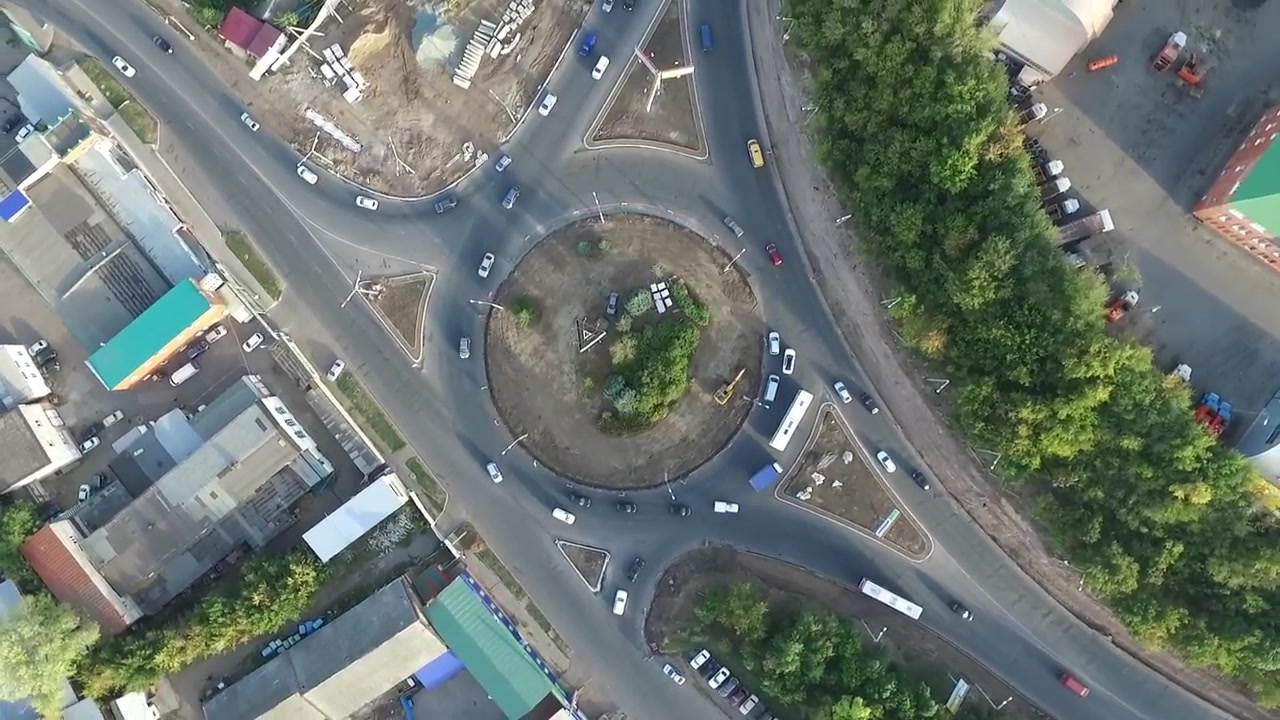car: (766, 387, 816, 454), (856, 577, 925, 622), (1103, 288, 1141, 324), (747, 461, 784, 494), (1193, 391, 1220, 431), (1206, 399, 1233, 438), (1057, 672, 1092, 699), (168, 360, 201, 388), (110, 54, 137, 79), (948, 600, 976, 624), (577, 28, 598, 59), (660, 663, 687, 687), (589, 54, 612, 82), (745, 137, 765, 169), (625, 556, 647, 585), (706, 665, 731, 690), (536, 90, 558, 118), (721, 215, 745, 239), (737, 691, 759, 717), (875, 449, 897, 475), (833, 379, 854, 406), (475, 251, 495, 279), (688, 646, 711, 670), (610, 588, 629, 617), (203, 323, 228, 345), (550, 506, 577, 526), (295, 164, 319, 186), (500, 185, 521, 210), (695, 657, 720, 678), (859, 391, 880, 416), (325, 358, 345, 384), (185, 340, 211, 360), (239, 110, 261, 133), (718, 676, 740, 699), (1, 111, 22, 135), (484, 460, 504, 485), (101, 409, 126, 429), (764, 242, 784, 267), (433, 196, 459, 215), (764, 373, 781, 402), (698, 24, 715, 53), (1171, 361, 1193, 383), (151, 34, 174, 55), (241, 332, 264, 353), (781, 346, 797, 376), (911, 470, 932, 492), (712, 499, 740, 515), (354, 194, 380, 211), (729, 686, 749, 708), (78, 435, 101, 454), (34, 347, 57, 366), (38, 360, 62, 378), (14, 123, 35, 143), (667, 502, 693, 518), (27, 339, 49, 357), (569, 492, 592, 509), (80, 423, 104, 439), (494, 154, 513, 174), (605, 290, 620, 315), (767, 330, 781, 356), (458, 334, 471, 360), (76, 483, 90, 505), (91, 472, 104, 495), (616, 502, 638, 515), (600, 1, 617, 15), (622, 1, 636, 12)
